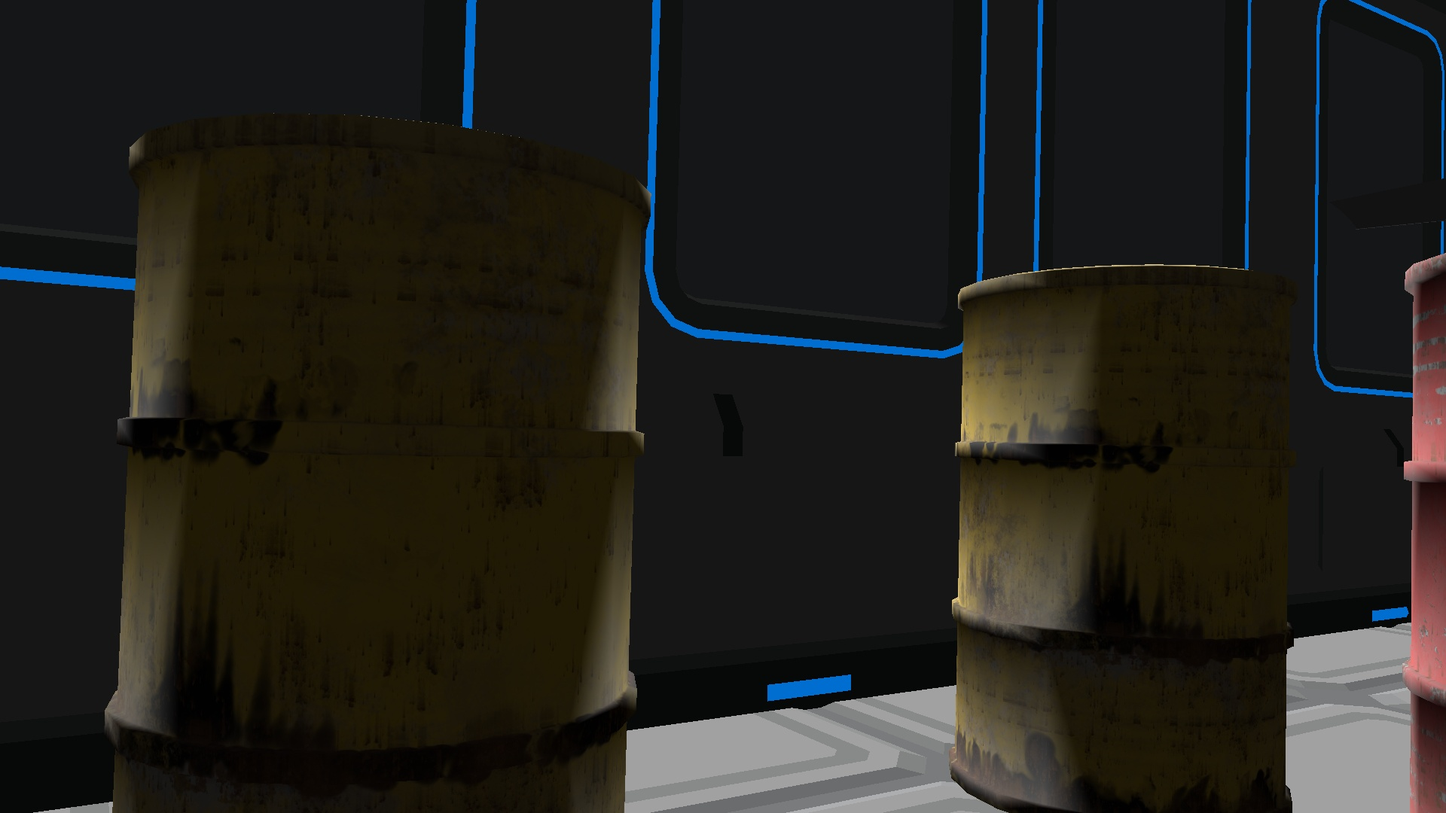toxic barrel: (104, 112, 651, 813), (950, 262, 1295, 813), (1403, 249, 1446, 813)
